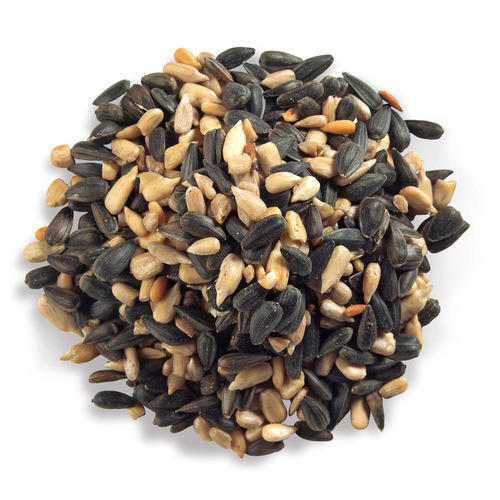seed: (12, 30, 483, 474)
